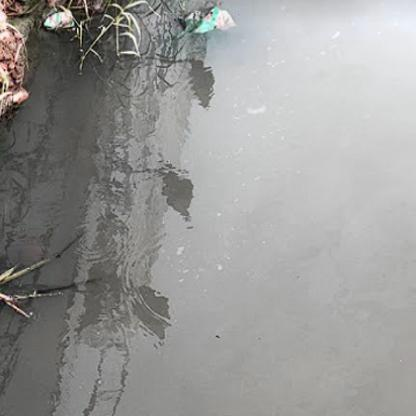Trash: (42, 4, 77, 34)
